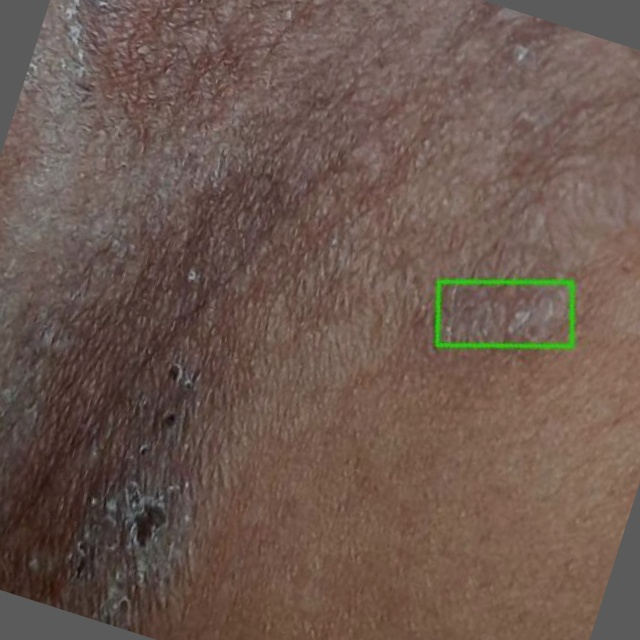Contact Dermatitis: (437, 280, 572, 345)
